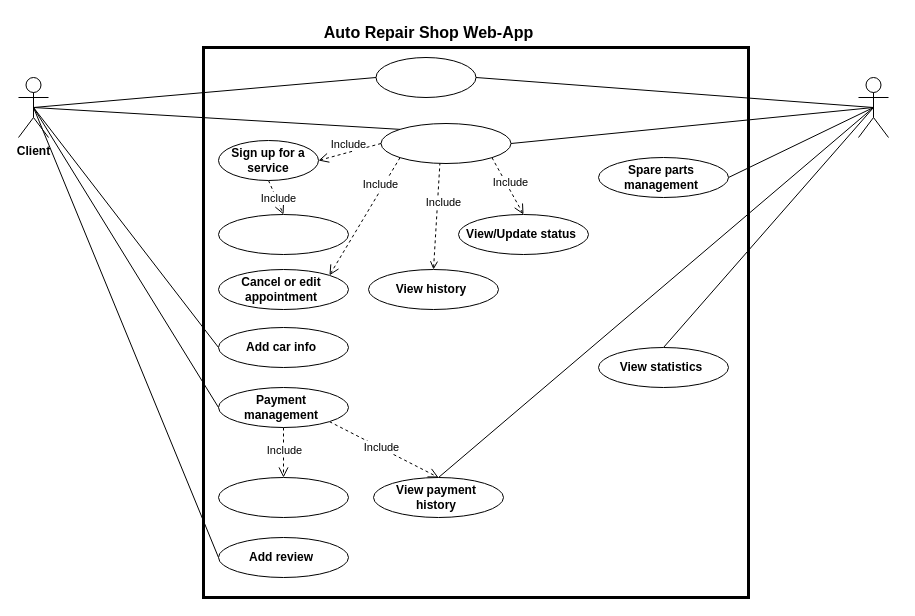
Some shapes in this 915 by 616 pixel diagram are drawn without their labels. The centre of each missing label's shape, as x and y in pixels:
"Appointment management" belongs at pixel 445 143.
"Employee" belongs at pixel 873 107.
"Login" belongs at pixel 425 77.
"Pay for service" belongs at pixel 283 497.
"View available dates and times" belongs at pixel 283 234.
